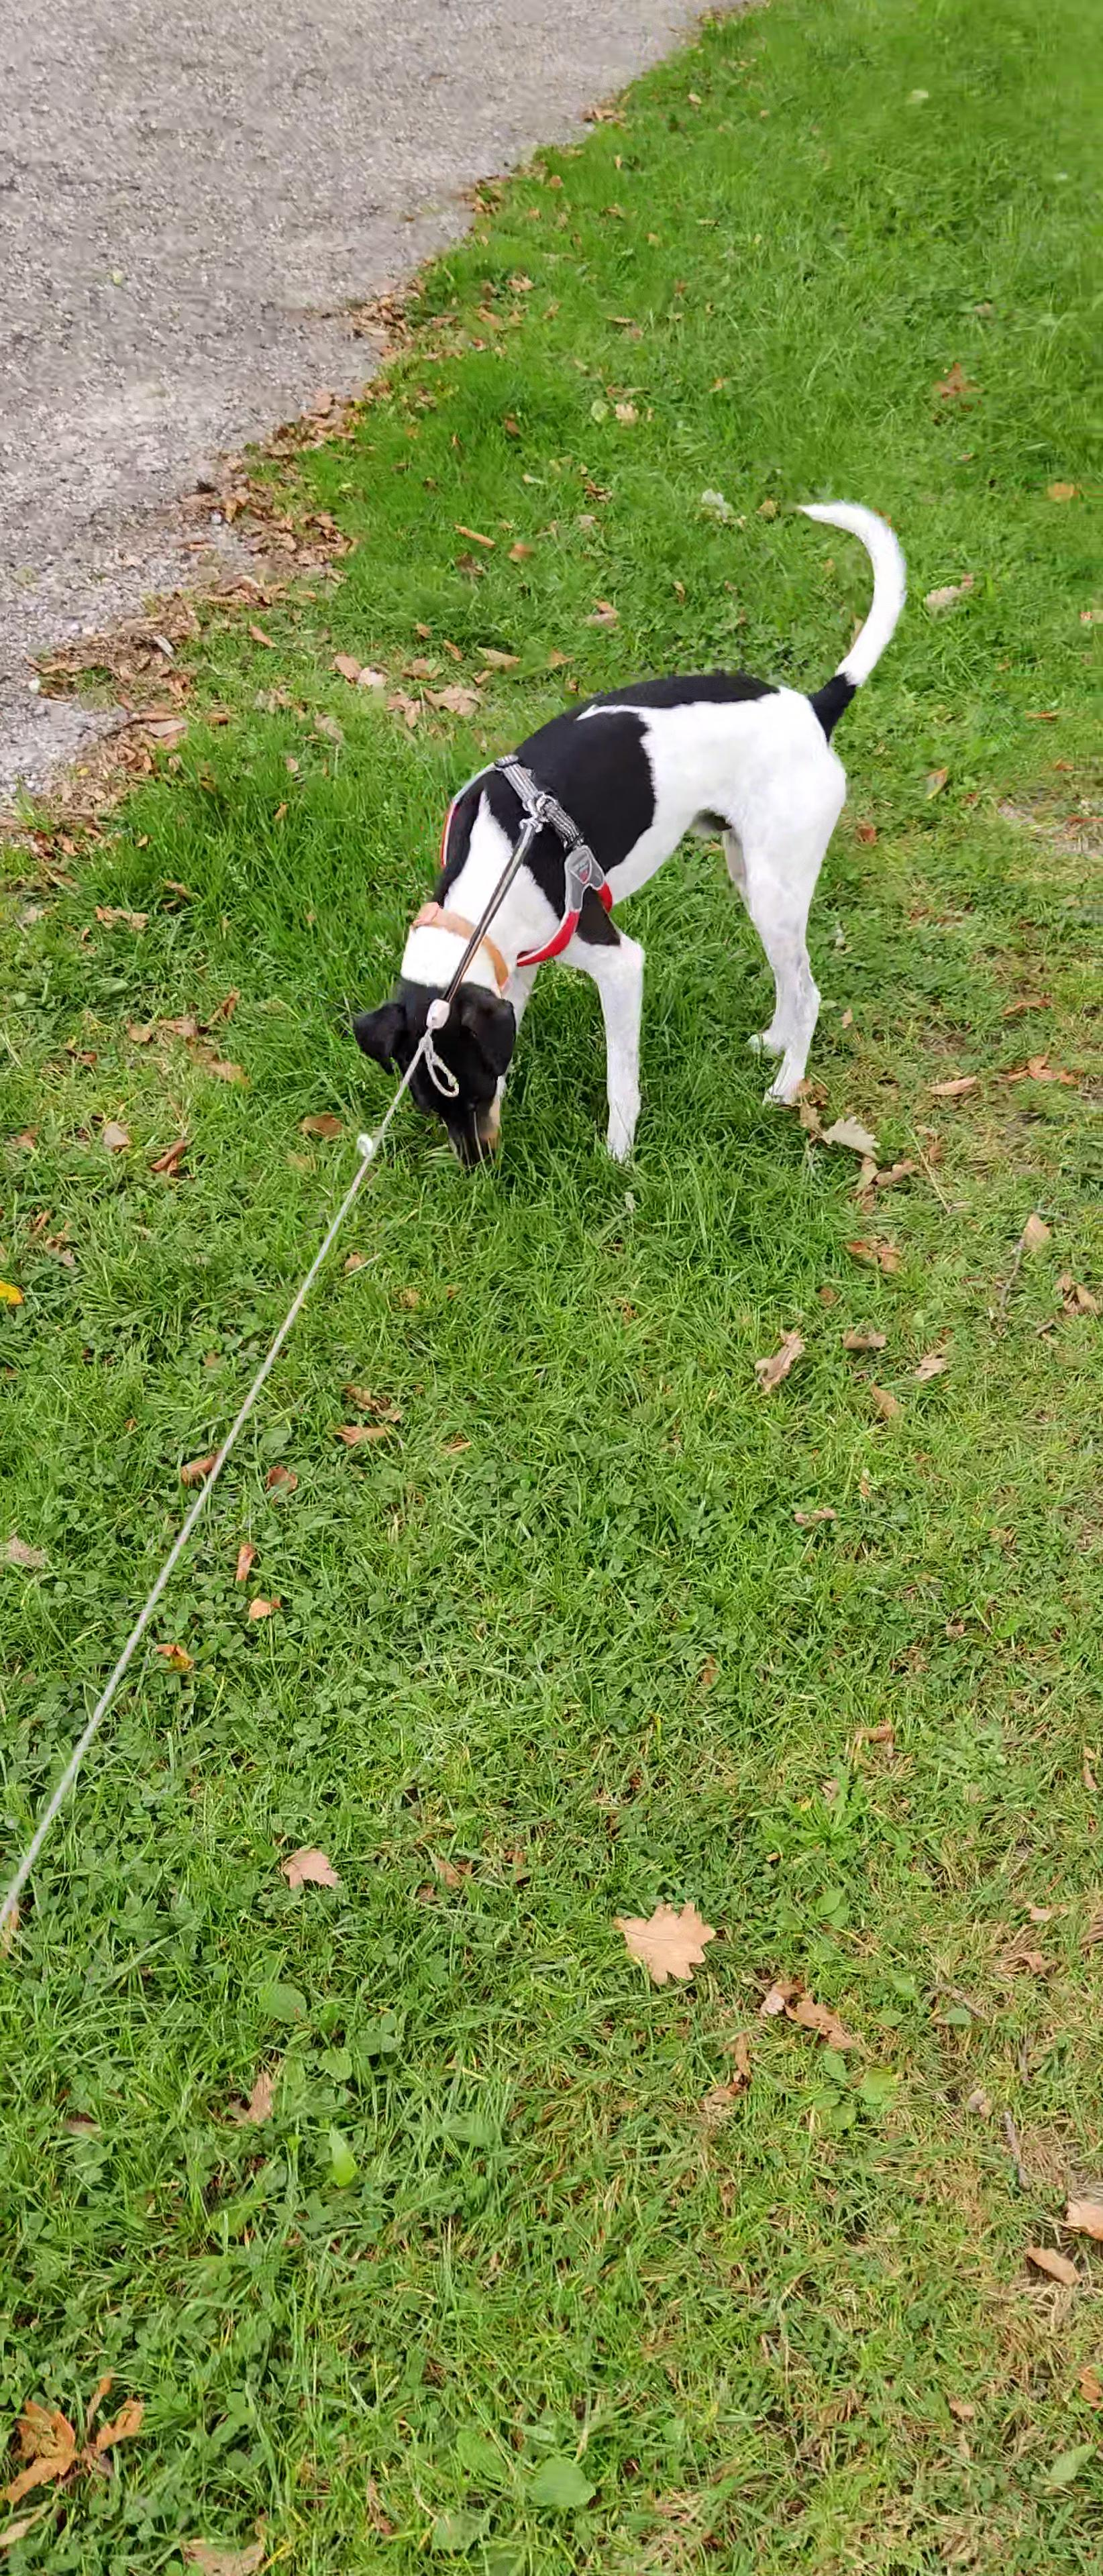Dog: (344, 496, 914, 1168)
